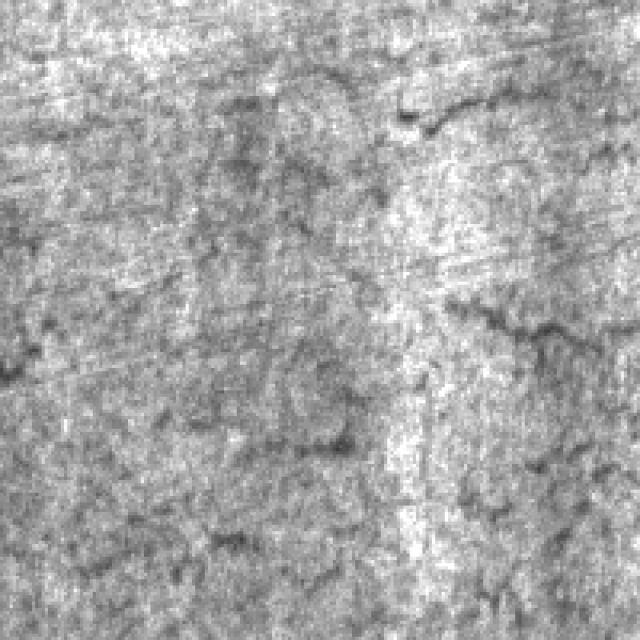crazing: (51, 381, 410, 608), (170, 55, 634, 202), (436, 285, 630, 630)
